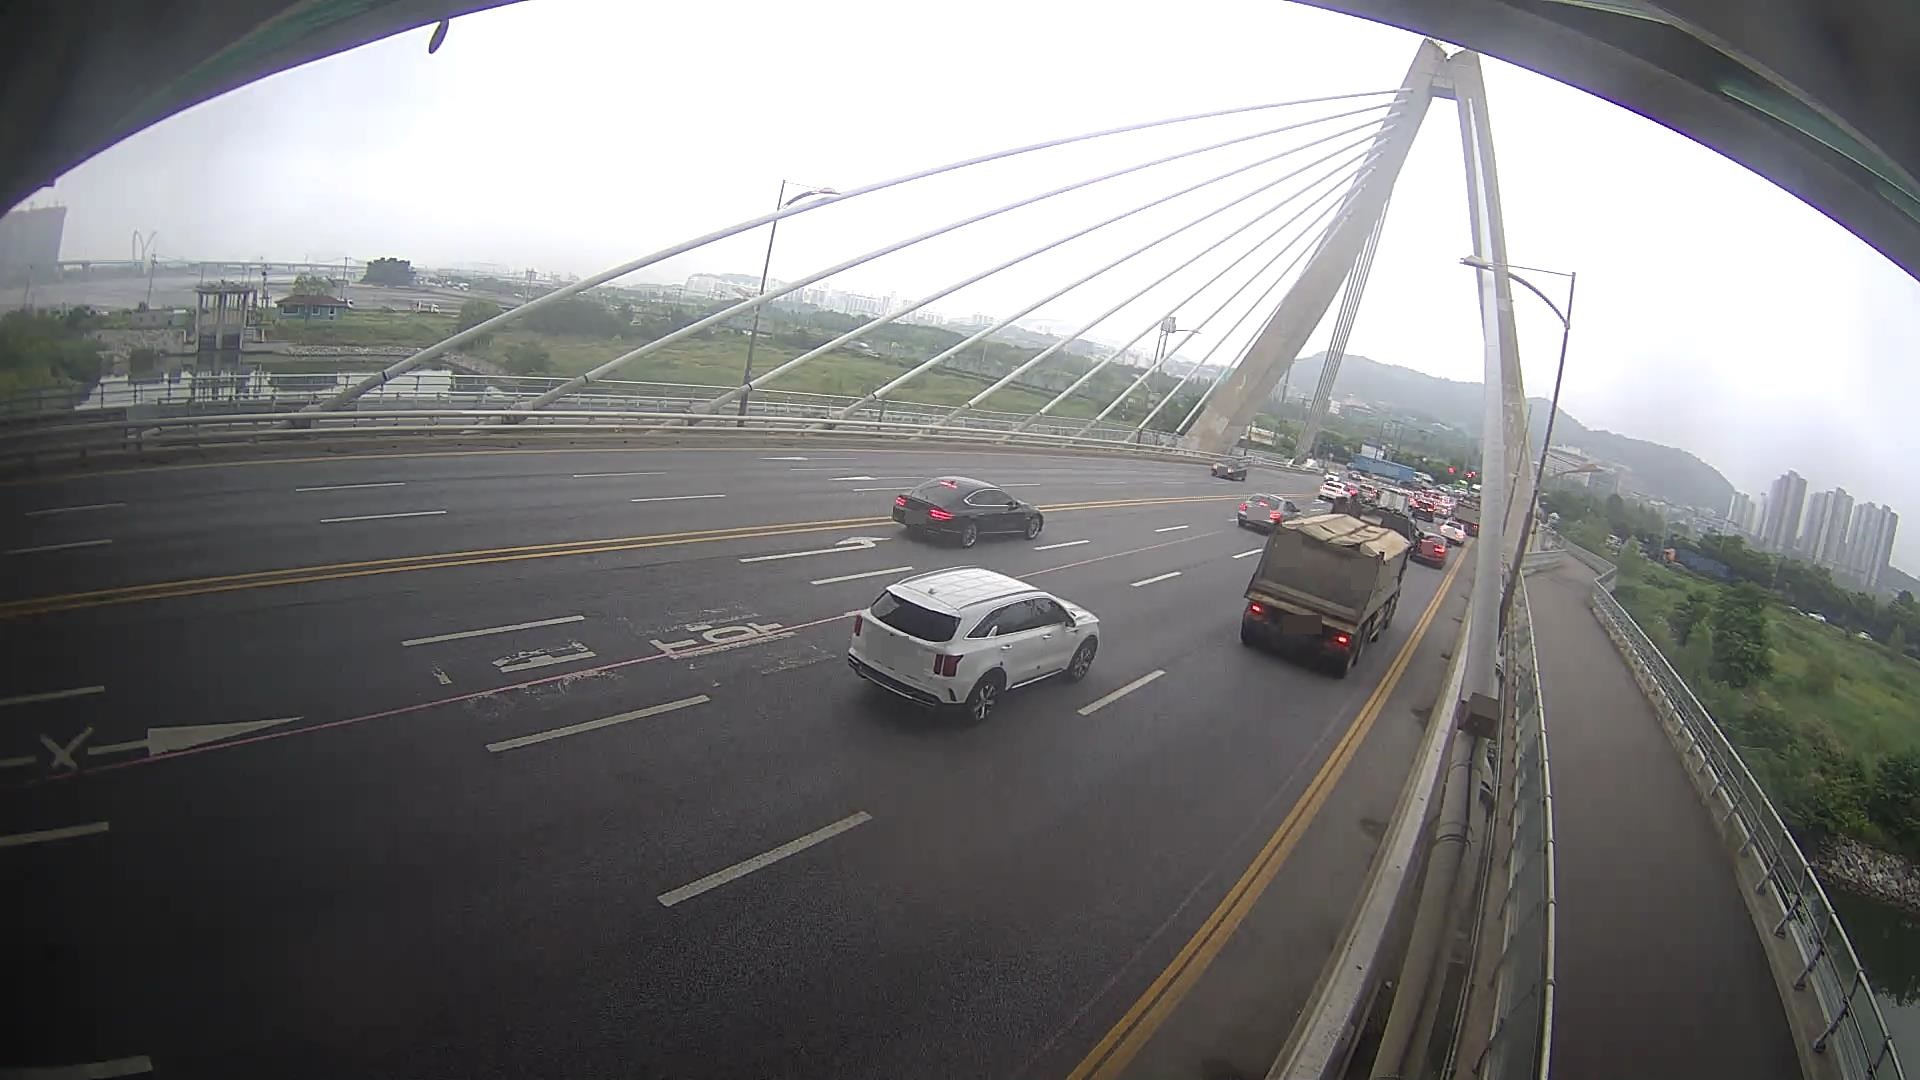정상차량: (1226, 463, 1425, 670)
